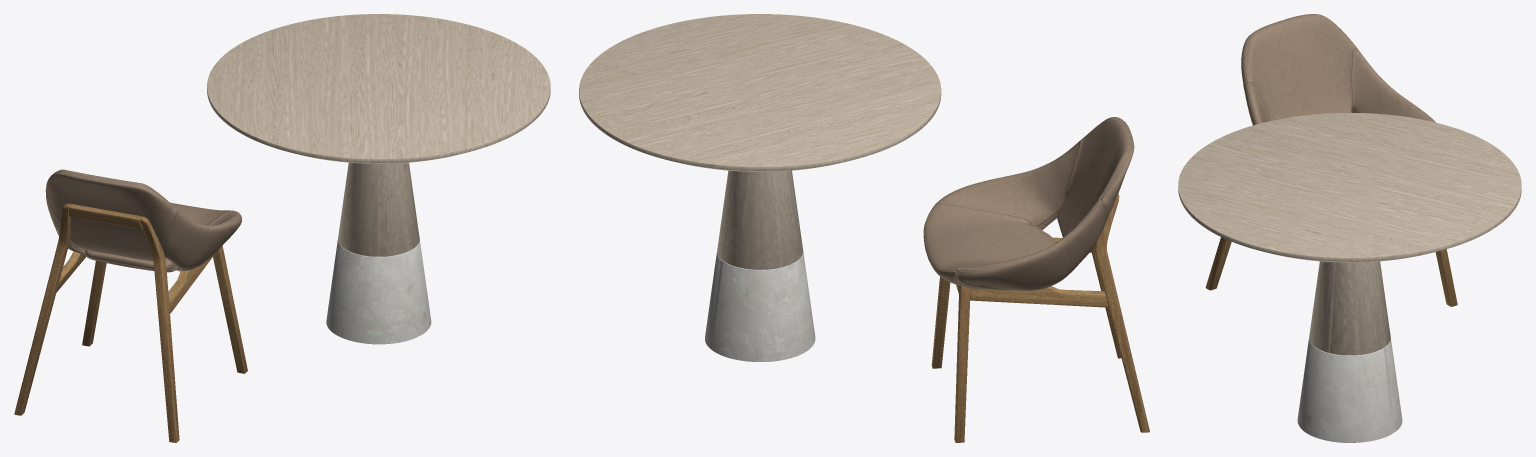
The model's file is table set.dae.
3 renders of one model, left to right at view 1: azimuth 30°, elevation 25°; view 2: azimuth 150°, elevation 25°; view 3: azimuth 270°, elevation 25°, orthographic. The views are drawn at different scales.
Visible parts, largest first — view 1: _Defintion3 (×3), _Defintion1 (×3), _Defintion, _Defintion2 (×8); view 2: _Defintion3 (×4), _Defintion1 (×5), _Defintion, _Defintion2 (×4); view 3: _Defintion3 (×4), _Defintion1 (×3), _Defintion, _Defintion2 (×2).
Part boxes in pixels (x1=…): _Defintion3 (×3): x1=207, y1=14, x2=550, y2=256; _Defintion1 (×3): x1=45, y1=171, x2=241, y2=271; _Defintion: x1=326, y1=239, x2=431, y2=344; _Defintion2 (×8): x1=14, y1=207, x2=247, y2=442; _Defintion3 (×4): x1=579, y1=14, x2=940, y2=269; _Defintion1 (×5): x1=924, y1=117, x2=1134, y2=290; _Defintion: x1=705, y1=252, x2=815, y2=361; _Defintion2 (×4): x1=932, y1=194, x2=1149, y2=442; _Defintion3 (×4): x1=1178, y1=113, x2=1521, y2=355; _Defintion1 (×3): x1=1244, y1=14, x2=1435, y2=123; _Defintion: x1=1297, y1=338, x2=1402, y2=442; _Defintion2 (×2): x1=1205, y1=237, x2=1457, y2=306.
Size of the model in its own units: 68.18 by 39.34 by 31.28.
